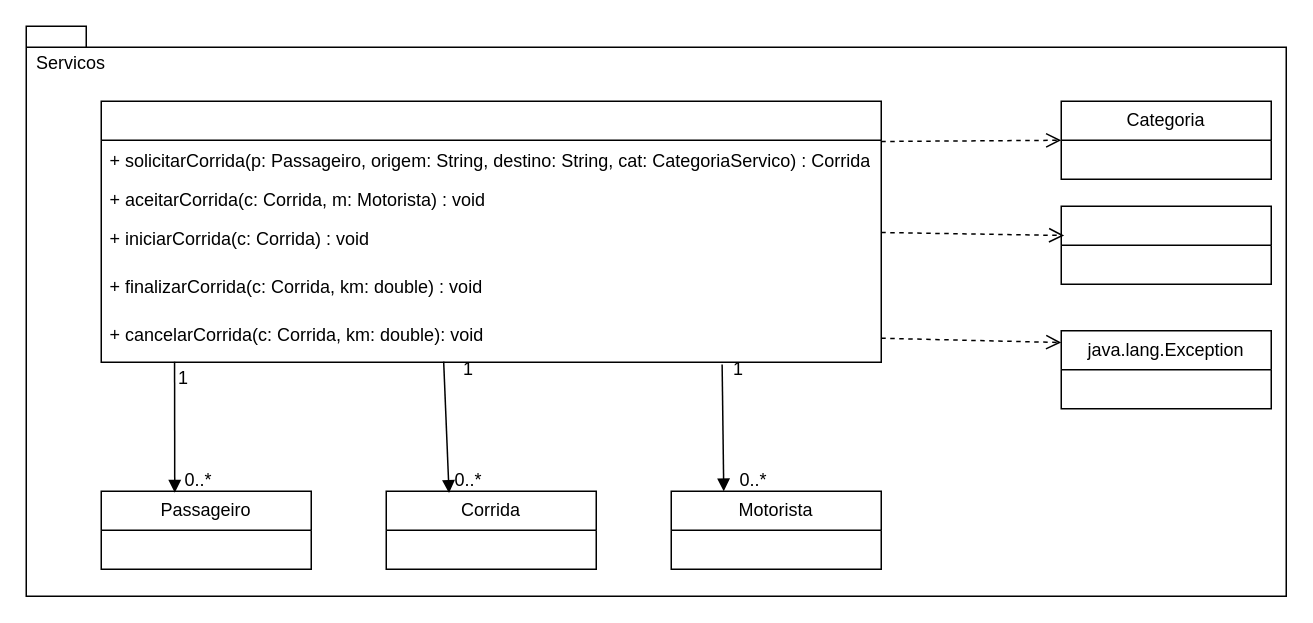
The diagram is 1313 pixels wide and 623 high, and some of its shapes have lost their labels. Each missing label, with the box of its shape:
MetodoPagamento: (1060, 205, 1271, 284)
ServicoDeCorrida: (100, 100, 881, 362)
